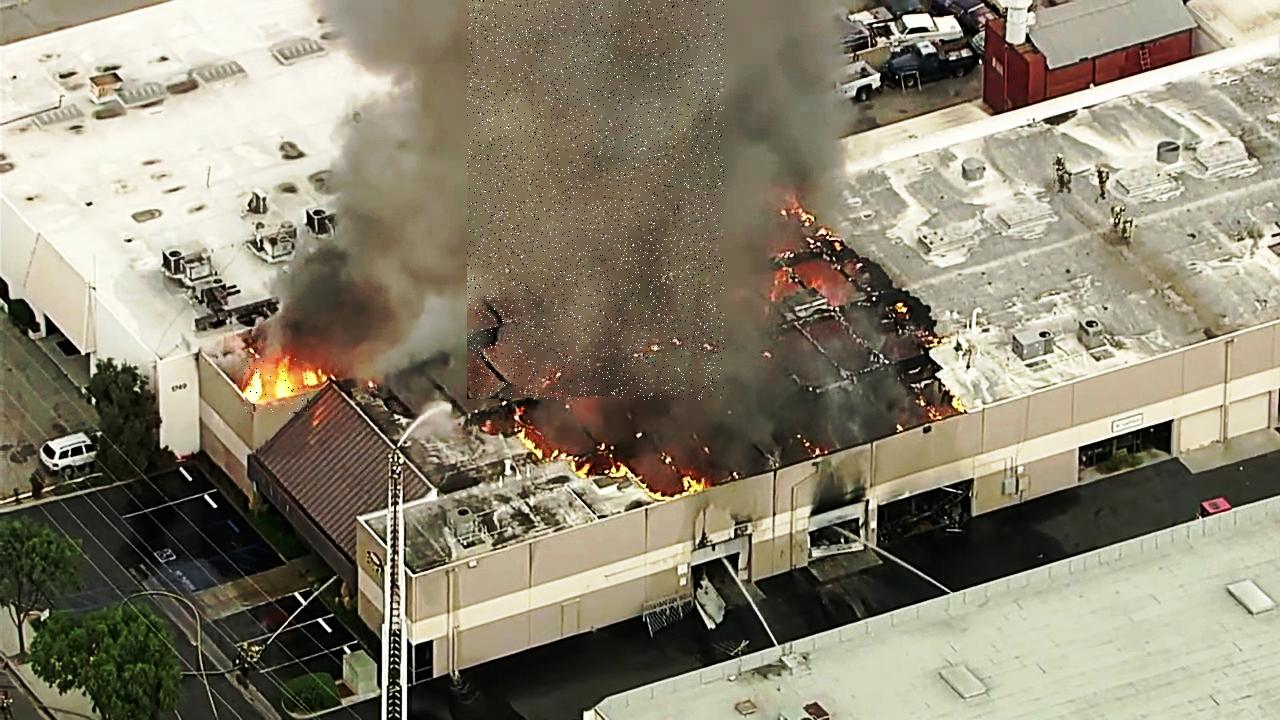fire: (244, 359, 310, 415)
smoke: (467, 0, 724, 400)
